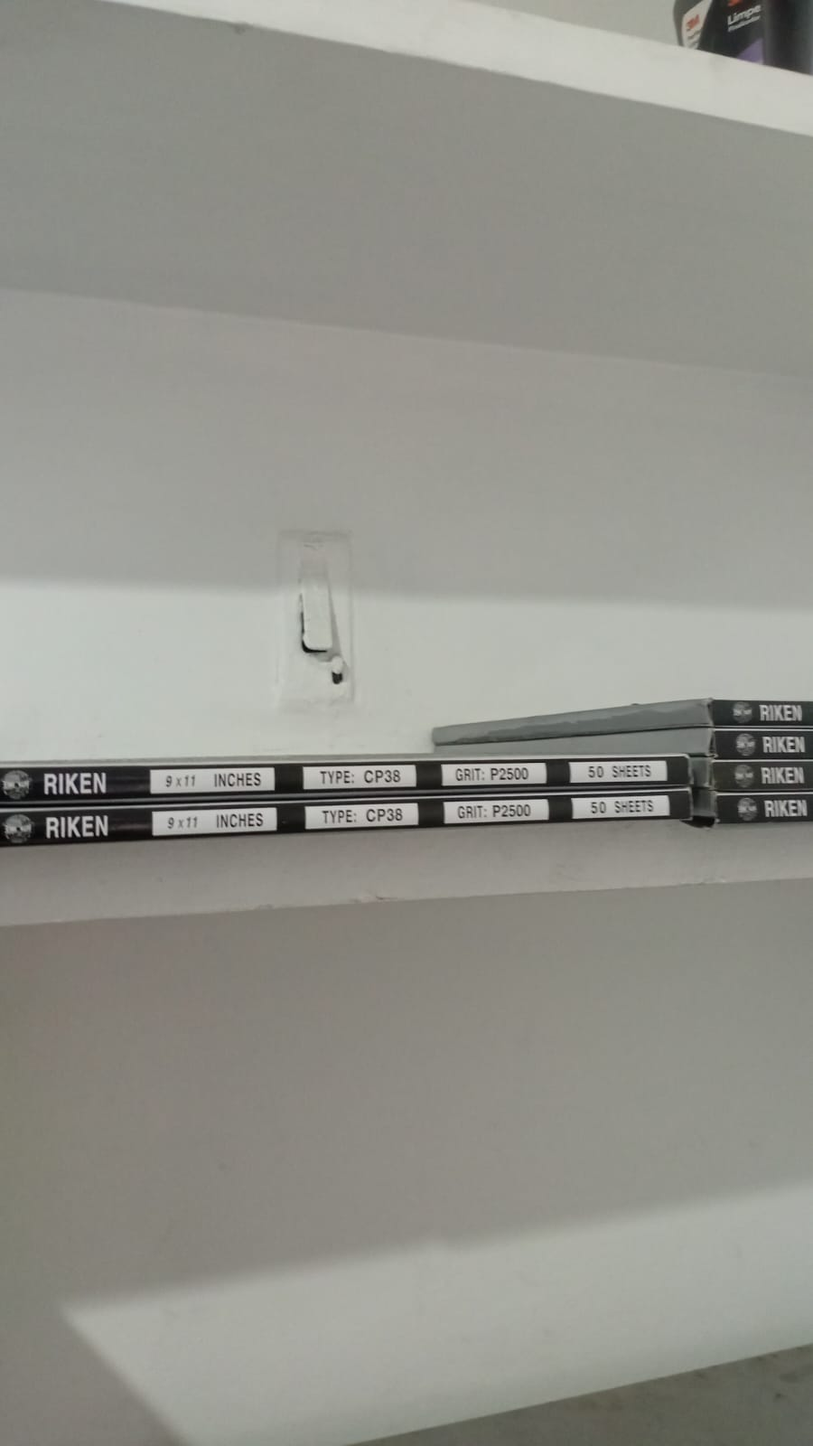grao: (435, 745, 550, 789), (437, 792, 555, 830)
objects: (0, 739, 698, 856)
